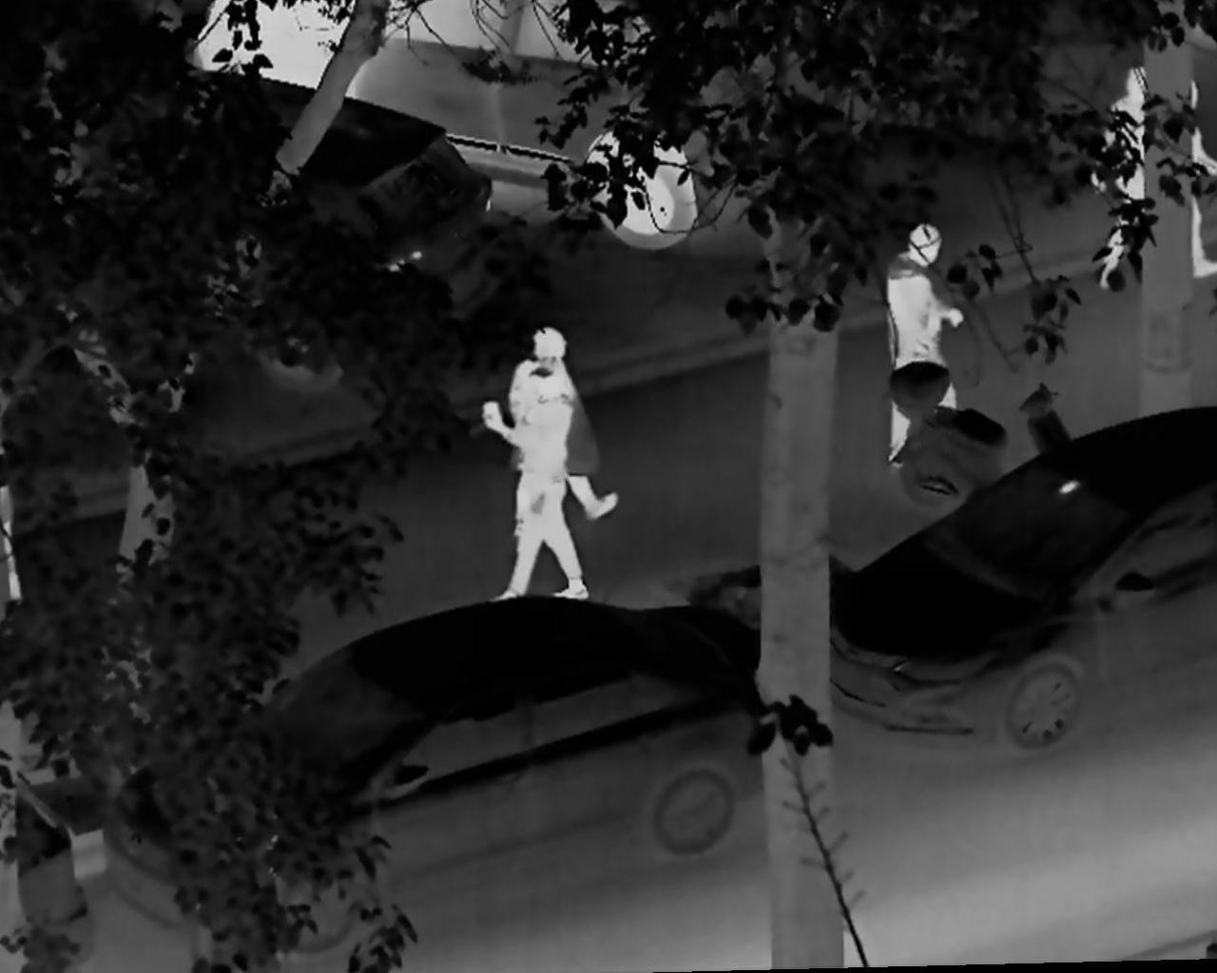person: (478, 368, 597, 608), (495, 326, 622, 541), (881, 221, 967, 471), (1094, 66, 1155, 292), (1180, 80, 1217, 282)
